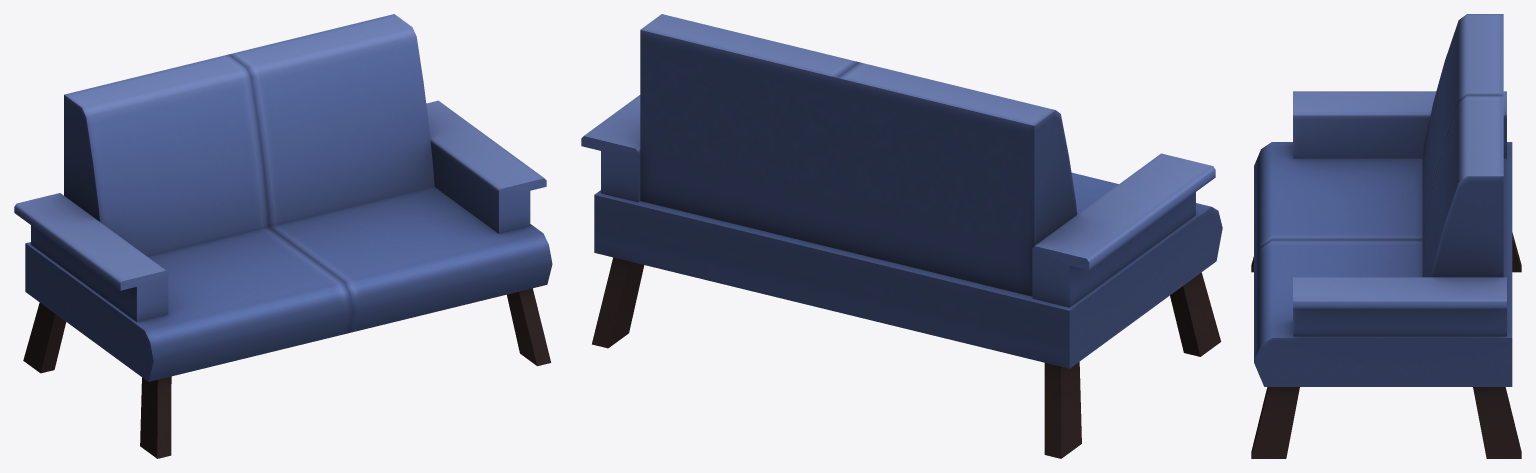
The model's file is sofa_2.fbx.
3 renders of one model, left to right at view 1: azimuth 30°, elevation 25°; view 2: azimuth 150°, elevation 25°; view 3: azimuth 270°, elevation 25°, orthographic. The views are drawn at different scales.
Visible parts, largest first — view 1: sofa_2; view 2: sofa_2; view 3: sofa_2.
Boxes of the visible parts, x1=… form: sofa_2: x1=14, y1=14, x2=552, y2=458; sofa_2: x1=581, y1=14, x2=1222, y2=458; sofa_2: x1=1251, y1=14, x2=1521, y2=458.
Bounding box in the file's own units: 1.19 × 0.7076 × 0.6496.
